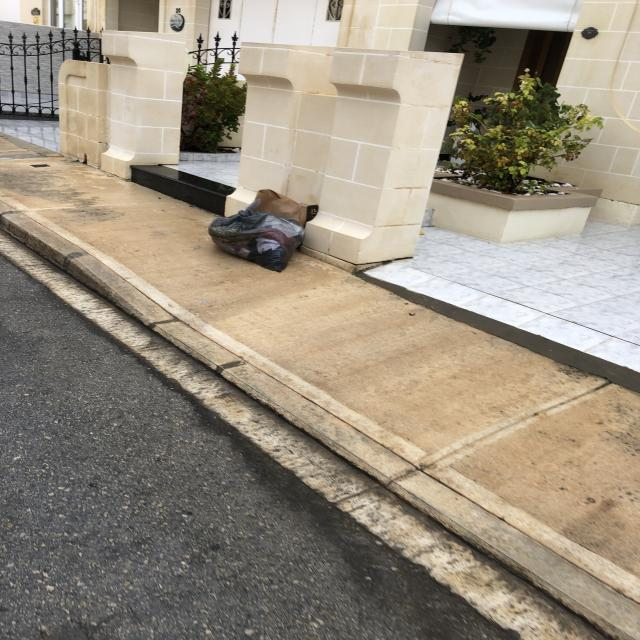Mixed Waste -Black Bag-: (208, 211, 306, 274)
Other: (246, 190, 320, 223)
